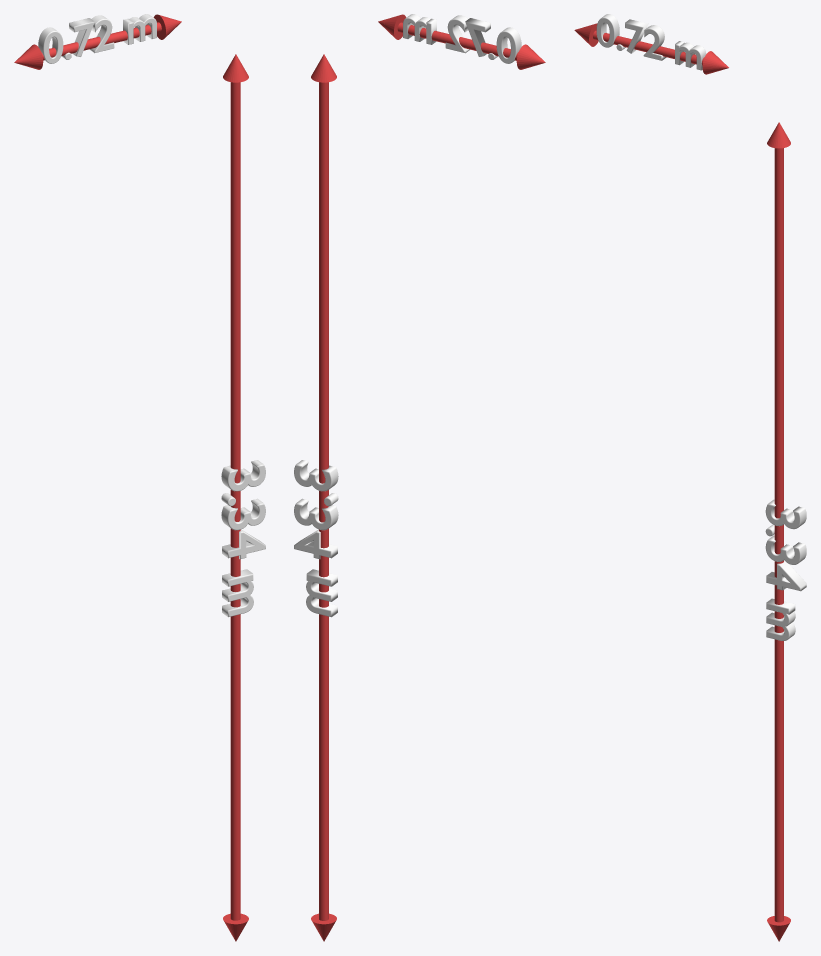
Rendered from dimentionFDDM4.gltf.
3 renders of one model, left to right at view 1: azimuth 30°, elevation 25°; view 2: azimuth 150°, elevation 25°; view 3: azimuth 330°, elevation 25°, orthographic. The views are drawn at different scales.
Visible parts, largest first — view 1: Text.003; view 2: Text.003; view 3: Text.003.
Boxes of the visible parts, bbox=[...] form: Text.003: bbox=[14, 14, 265, 941]; Text.003: bbox=[294, 14, 545, 941]; Text.003: bbox=[574, 14, 806, 941].
Bounding box in the file's own units: 4.82 × 17.73 × 0.4388.
